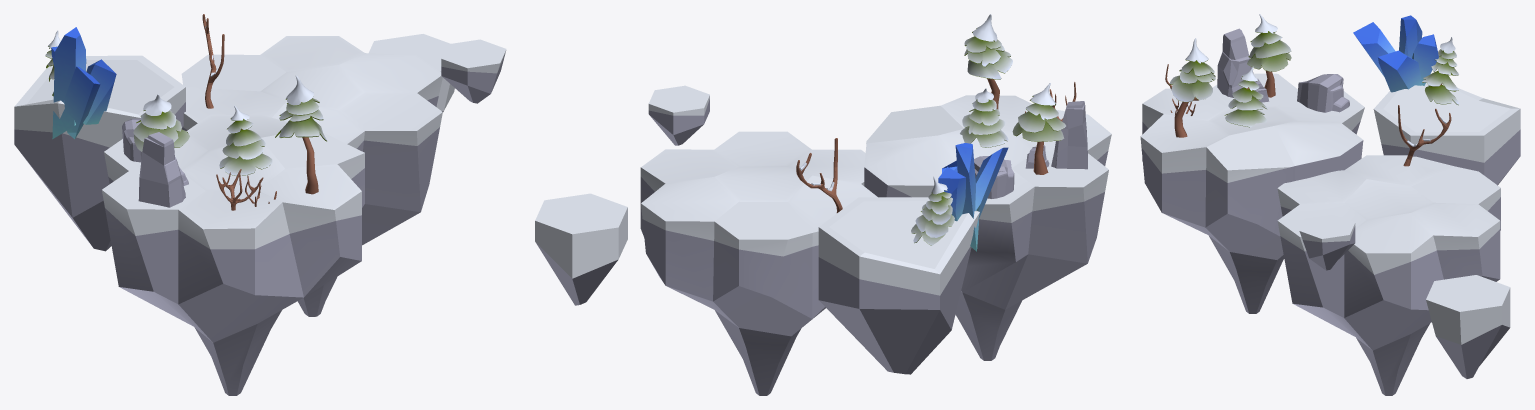
Rendered from WinterIsland.fbx.
The picture shows the model from 3 angles, left to right: view 1: azimuth 30°, elevation 25°; view 2: azimuth 150°, elevation 25°; view 3: azimuth 270°, elevation 25°; orthographic projection. The views are drawn at different scales.
Parts seen in each view (by area): view 1: IslandBig.002, IslandBig.001, IslandSmall.002, Crystals.014, IslandSmall1.001, Rock_Snow_1, PineTree_Snow_4, PineTree_Snow_1, IslandSmall.001, PineTree_Snow_5, CommonTree_Dead_Snow_2, BirchTree_Dead_1 (+1 smaller); view 2: IslandBig.001, IslandBig.002, IslandSmall.002, IslandSmall.001, Crystals.014, IslandSmall1.001, PineTree_Snow_5, PineTree_Snow_4, Rock_Snow_1, PineTree_Snow_1, PineTree_3, Rock_Snow_6 (+1 smaller); view 3: IslandBig.001, IslandBig.002, IslandSmall.002, IslandSmall.001, Crystals.014, IslandSmall1.001, PineTree_Snow_4, PineTree_Snow_5, Rock_Snow_1, Rock_Snow_6, PineTree_3, PineTree_Snow_1 (+1 smaller).
Part boxes in pixels (x1,y1,x2,y2): IslandBig.002: [102, 114, 364, 395]; IslandBig.001: [181, 36, 442, 316]; IslandSmall.002: [14, 55, 185, 251]; Crystals.014: [51, 27, 116, 139]; IslandSmall1.001: [441, 39, 506, 103]; Rock_Snow_1: [138, 132, 185, 207]; PineTree_Snow_4: [275, 75, 327, 194]; PineTree_Snow_1: [219, 105, 272, 175]; IslandSmall.001: [369, 34, 454, 111]; PineTree_Snow_5: [133, 94, 189, 151]; CommonTree_Dead_Snow_2: [216, 169, 276, 210]; BirchTree_Dead_1: [202, 14, 224, 108]; IslandBig.001: [640, 131, 877, 395]; IslandBig.002: [864, 95, 1111, 360]; IslandSmall.002: [818, 197, 979, 374]; IslandSmall.001: [535, 193, 627, 305]; Crystals.014: [938, 143, 1008, 251]; IslandSmall1.001: [648, 85, 709, 145]; PineTree_Snow_5: [1012, 83, 1065, 174]; PineTree_Snow_4: [964, 14, 1012, 109]; Rock_Snow_1: [1051, 101, 1087, 169]; PineTree_Snow_1: [960, 88, 1008, 147]; PineTree_3: [911, 177, 954, 245]; Rock_Snow_6: [974, 156, 1014, 198]; IslandBig.001: [1277, 155, 1500, 395]; IslandBig.002: [1140, 73, 1364, 313]; IslandSmall.002: [1373, 82, 1520, 185]; IslandSmall.001: [1426, 275, 1510, 378]; Crystals.014: [1353, 15, 1438, 92]; IslandSmall1.001: [1299, 214, 1355, 270]; PineTree_Snow_4: [1169, 38, 1215, 137]; PineTree_Snow_5: [1247, 14, 1291, 97]; Rock_Snow_1: [1217, 28, 1253, 97]; Rock_Snow_6: [1297, 74, 1349, 112]; PineTree_3: [1422, 37, 1458, 105]; PineTree_Snow_1: [1224, 66, 1267, 127].
Size of the model in its own units: 1035 by 744 by 850.
